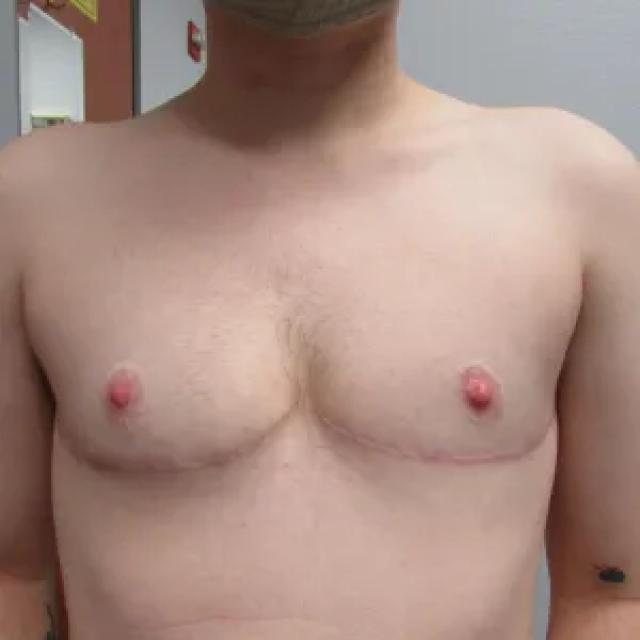Seno herido: (37, 304, 303, 491), (312, 303, 568, 479)
